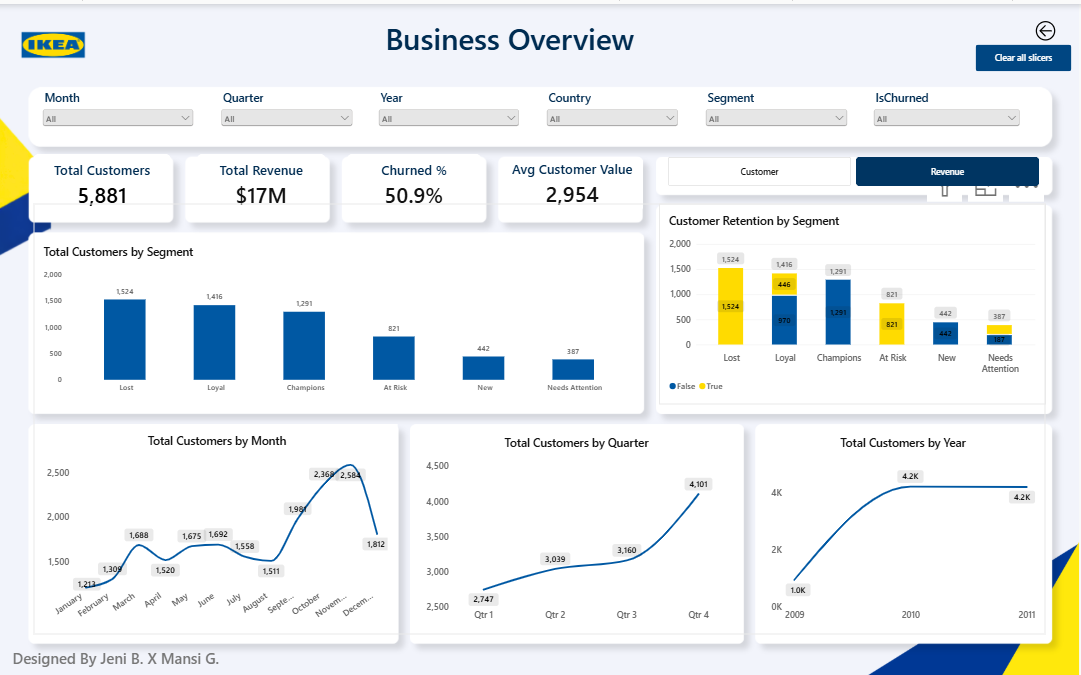

Layout of this report page (visuals, bound fields, positions):
{"tool":"powerbi","page":{"name":"Overview","canvas":[1940,1098],"ordinal":1},"visuals":[{"type":"cardVisual","fields":{"Data":["Sheet1.Total Customers"]},"box":[153.1,241.6,222.5,100.5],"z":0},{"type":"columnChart","fields":{"Category":["Sheet1.Segment"],"Y":["Sheet1.Total Customers"]},"box":[153.1,373.2,985.7,275.1],"z":0,"group":"g1"},{"type":"cardVisual","fields":{"Data":["Sheet1.Total Revenue"]},"box":[416.3,241.6,208.2,100.5],"z":1000},{"type":"columnChart","title":"Customer Retention by Segment","fields":{"Category":["Sheet1.Segment"],"Series":["Sheet1.IsChurned"],"Y":["Sheet1.Total Customers"]},"box":[1165.1,323,624.5,325.4],"z":1000,"group":"g1"},{"type":"cardVisual","fields":{"Data":["Sheet1.Avg Customer Value"]},"box":[909.2,246.4,229.7,88.5],"z":2000},{"type":"lineChart","fields":{"Category":["Sheet1.InvoiceMonth.Variation.Date Hierarchy.Year","Sheet1.InvoiceMonth.Variation.Date Hierarchy.Quarter","Sheet1.InvoiceMonth.Variation.Date Hierarchy.Month"],"Y":["Sheet1.Total Customers"]},"box":[157.9,679.5,583.8,337.3],"z":2000,"group":"g1"},{"type":"cardVisual","fields":{"Data":["Sheet1.Churned %"]},"box":[660.3,241.6,217.7,100.5],"z":3000},{"type":"lineChart","fields":{"Category":["Sheet1.InvoiceMonth.Variation.Date Hierarchy.Quarter"],"Y":["Sheet1.Total Customers"]},"box":[772.8,681.9,519.2,337.3],"z":3000,"group":"g1"},{"type":"slicer","fields":{"Values":["Sheet1.InvoiceDate.Variation.Date Hierarchy.Month"]},"box":[162.7,138.8,253.6,74.2],"z":4000},{"type":"lineChart","fields":{"Category":["Sheet1.InvoiceMonth.Variation.Date Hierarchy.Year"],"Y":["Sheet1.Total Customers"]},"box":[1330.2,681.9,459.4,337.3],"z":4000,"group":"g1"},{"type":"slicer","fields":{"Values":["Sheet1.InvoiceDate.Variation.Date Hierarchy.Year"]},"box":[706.8,138.8,236.9,74.2],"z":5000},{"type":"slicer","fields":{"Values":["Sheet1.InvoiceDate.Variation.Date Hierarchy.Quarter"]},"box":[450.3,138.8,222.5,74.2],"z":6000},{"type":"slicer","fields":{"Values":["Sheet1.IsChurned"]},"box":[1507.3,138.8,246.4,74.2],"z":7000},{"type":"slicer","fields":{"Values":["Sheet1.Segment"]},"box":[1234.1,138.8,239.3,74.2],"z":8000},{"type":"slicer","fields":{"Values":["Sheet1.Country"]},"box":[977.6,138.8,222.5,74.2],"z":9000},{"type":"group","id":"g1","title":"Customer","box":[153.1,323,1636.5,696.2],"z":10000},{"type":"bookmarkNavigator","box":[1179.5,246.4,600.5,47.9],"z":12000},{"type":"textbox","box":[119.6,1040.8,373.2,43.1],"z":13000},{"type":"image","box":[105.3,21.5,160.3,88.5],"z":14000},{"type":"textbox","box":[646,21.5,555.1,88.5],"z":15000},{"type":"actionButton","box":[1739.4,21.5,100,40],"z":16000},{"type":"actionButton","box":[1676.1,65.5,155.2,43.7],"z":17000}]}

Visuals, with their boxes on the page's 1940x1098 design canvas (x1, y1, x2, y2). These are canvas units, not pixel positions in the 1081x675 screenshot, which may show the page scaled, cropped or inside an application window:
cardVisual - Sheet1.Total Customers: (153, 242, 376, 342)
columnChart - Sheet1.Segment x Sheet1.Total Customers: (153, 373, 1139, 648)
cardVisual - Sheet1.Total Revenue: (416, 242, 624, 342)
"Customer Retention by Segment" columnChart: (1165, 323, 1790, 648)
cardVisual - Sheet1.Avg Customer Value: (909, 246, 1139, 335)
lineChart - Sheet1.InvoiceMonth.Variation.Date Hierarchy.Year x Sheet1.InvoiceMonth.Variation.Date Hierarchy.Quarter: (158, 680, 742, 1017)
cardVisual - Sheet1.Churned %: (660, 242, 878, 342)
lineChart - Sheet1.InvoiceMonth.Variation.Date Hierarchy.Quarter x Sheet1.Total Customers: (773, 682, 1292, 1019)
slicer - Sheet1.InvoiceDate.Variation.Date Hierarchy.Month: (163, 139, 416, 213)
lineChart - Sheet1.InvoiceMonth.Variation.Date Hierarchy.Year x Sheet1.Total Customers: (1330, 682, 1790, 1019)
slicer - Sheet1.InvoiceDate.Variation.Date Hierarchy.Year: (707, 139, 944, 213)
slicer - Sheet1.InvoiceDate.Variation.Date Hierarchy.Quarter: (450, 139, 673, 213)
slicer - Sheet1.IsChurned: (1507, 139, 1754, 213)
slicer - Sheet1.Segment: (1234, 139, 1473, 213)
slicer - Sheet1.Country: (978, 139, 1200, 213)
"Customer" group: (153, 323, 1790, 1019)
bookmarkNavigator: (1180, 246, 1780, 294)
textbox: (120, 1041, 493, 1084)
image: (105, 22, 266, 110)
textbox: (646, 22, 1201, 110)
actionButton: (1739, 22, 1839, 62)
actionButton: (1676, 66, 1831, 109)
